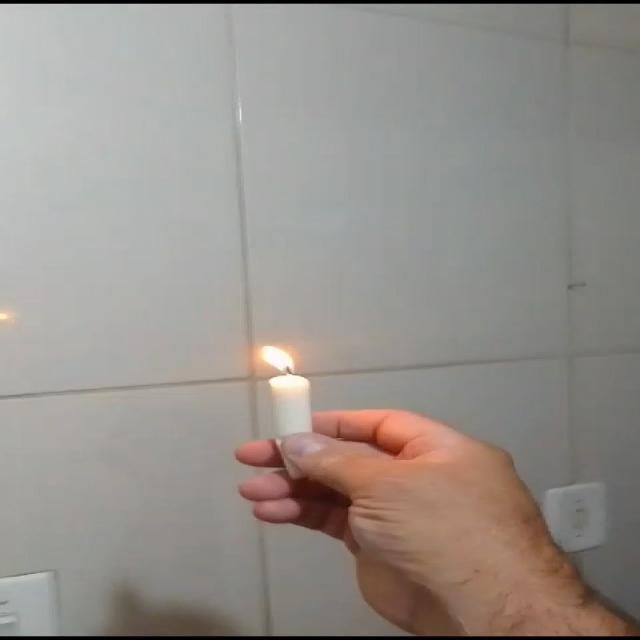fogo-ypXI: (253, 343, 301, 376)
